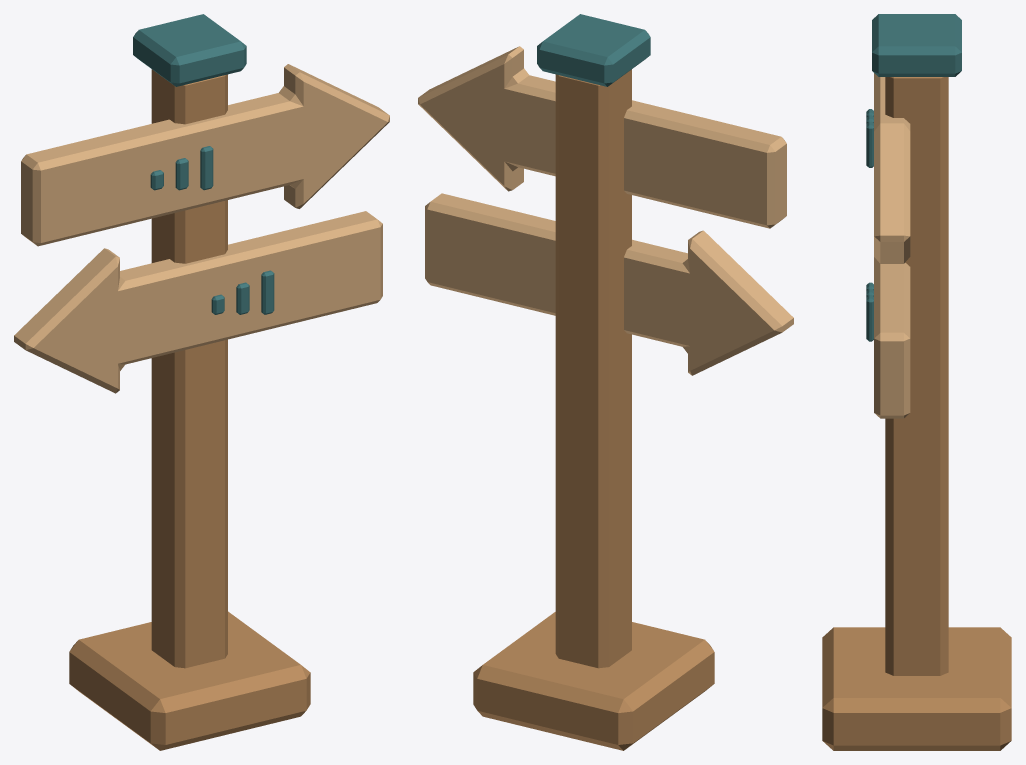
3 renders of one model, left to right at view 1: azimuth 30°, elevation 25°; view 2: azimuth 150°, elevation 25°; view 3: azimuth 270°, elevation 25°, orthographic. The views are drawn at different scales.
Parts seen in each view (by area): view 1: harbor-sign-01; view 2: harbor-sign-01; view 3: harbor-sign-01.
Part boxes in pixels (x1,y1,x2,y2): harbor-sign-01: [14, 14, 389, 750]; harbor-sign-01: [418, 14, 793, 750]; harbor-sign-01: [822, 14, 1011, 750].
Size of the model in its own units: 0.957 by 1.68 by 0.42.
